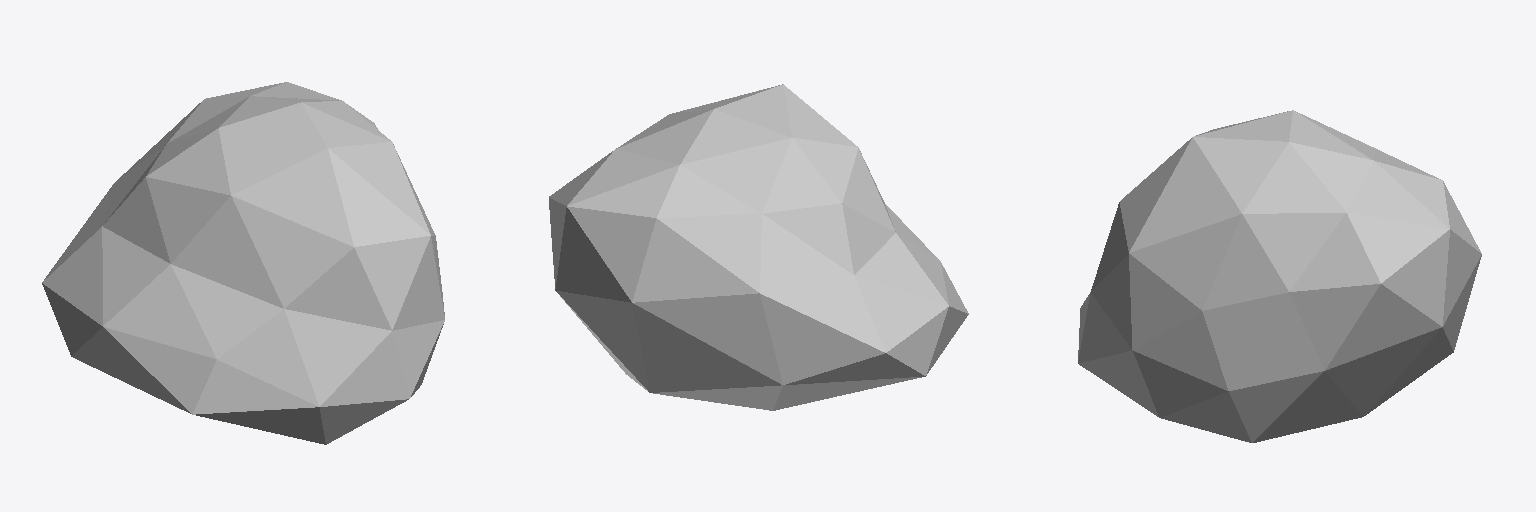
The model's file is prop_v2_2.obj.
3 renders of one model, left to right at view 1: azimuth 30°, elevation 25°; view 2: azimuth 150°, elevation 25°; view 3: azimuth 270°, elevation 25°, orthographic.
Visible parts, largest first — view 1: prop_v2_2_Icosphere.001; view 2: prop_v2_2_Icosphere.001; view 3: prop_v2_2_Icosphere.001.
Part boxes in pixels (x1,y1,x2,y2): prop_v2_2_Icosphere.001: (42, 82, 444, 444); prop_v2_2_Icosphere.001: (549, 84, 968, 410); prop_v2_2_Icosphere.001: (1078, 110, 1481, 442).
Size of the model in its own units: 0.1542 by 0.1189 by 0.1576.